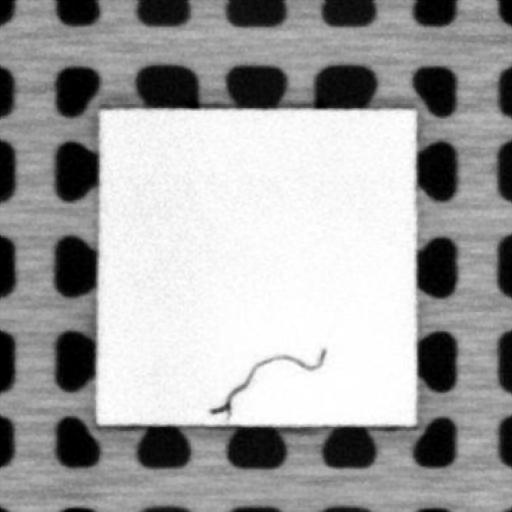DIE_INK: (206, 345, 325, 416)
